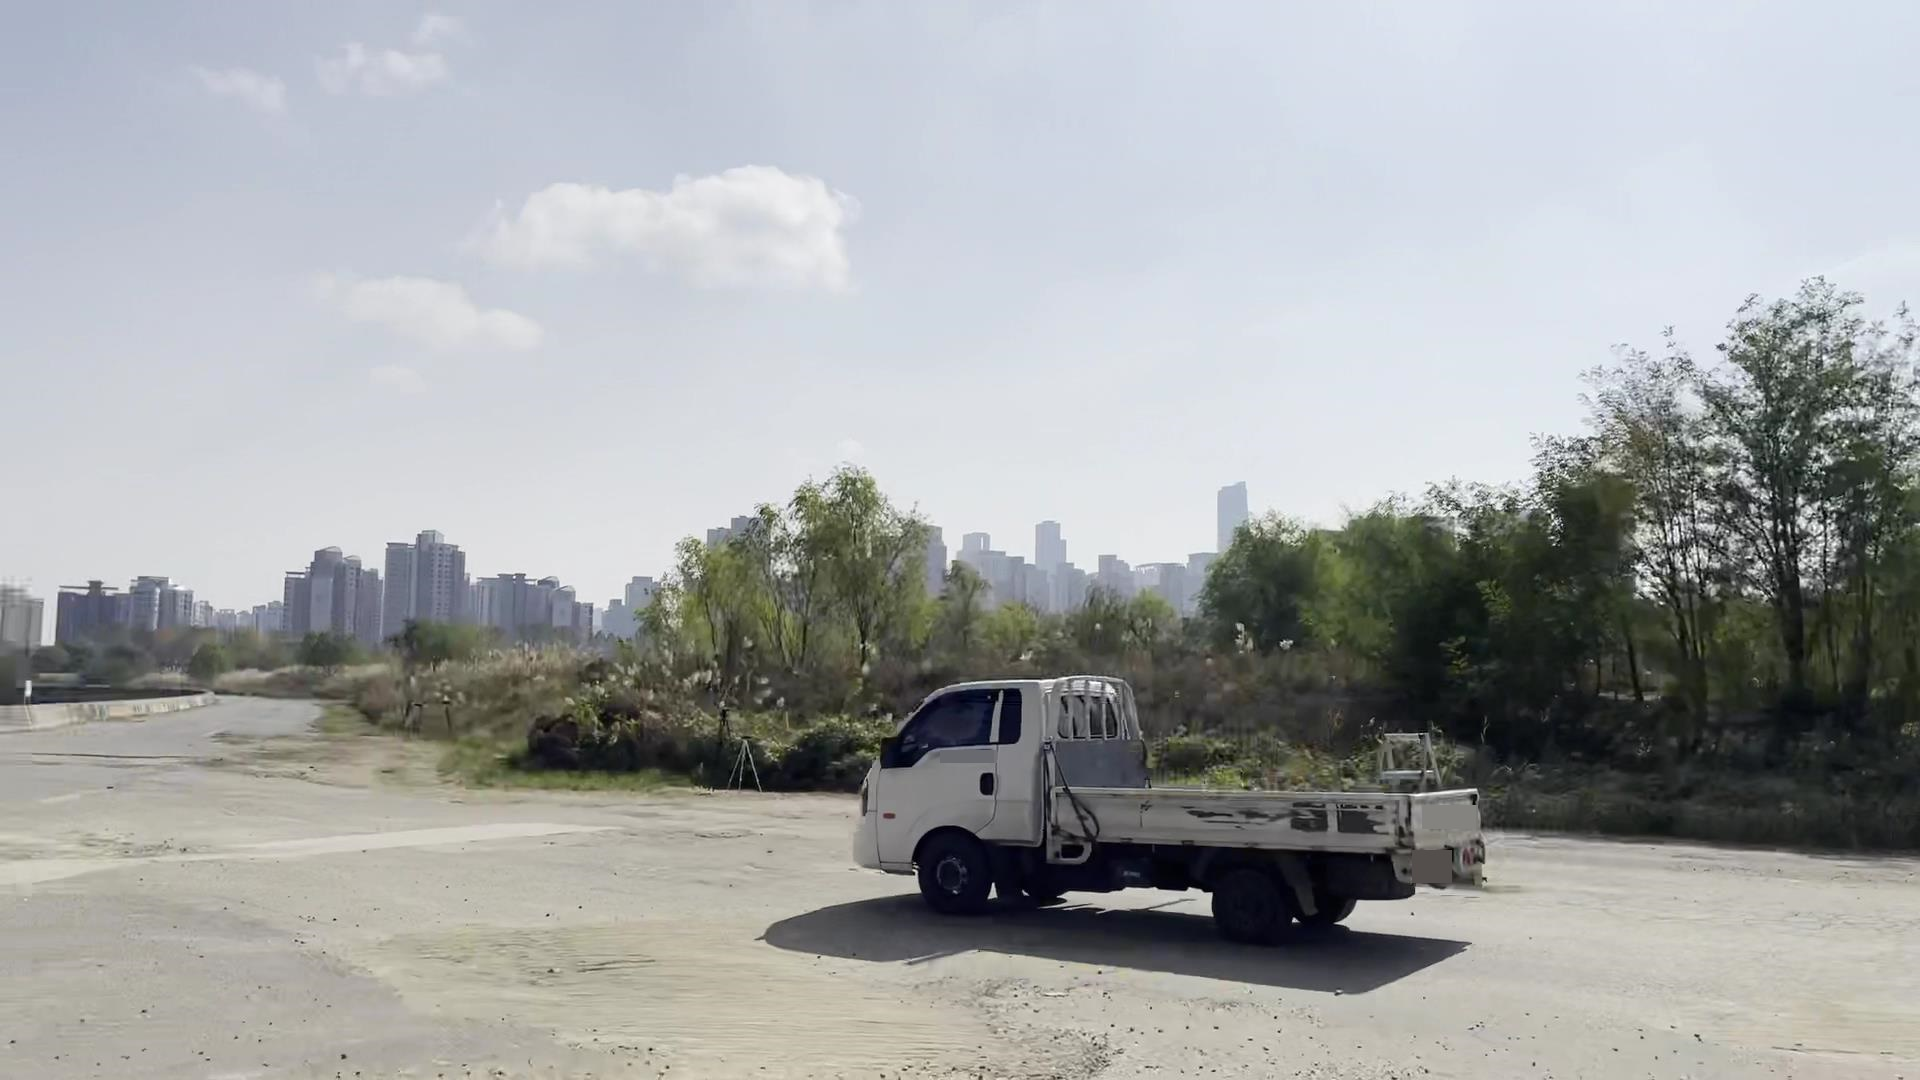불법차량: (853, 675, 1485, 947)
